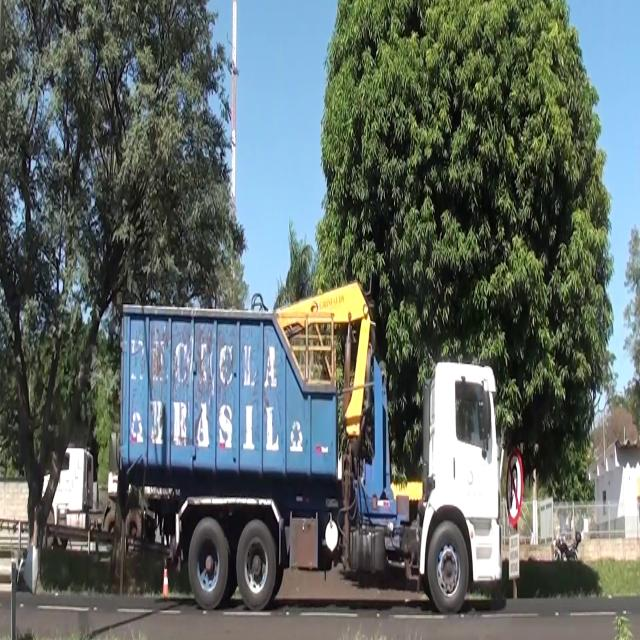-axle: (428, 516, 468, 612), (237, 519, 279, 605), (189, 517, 229, 603)
